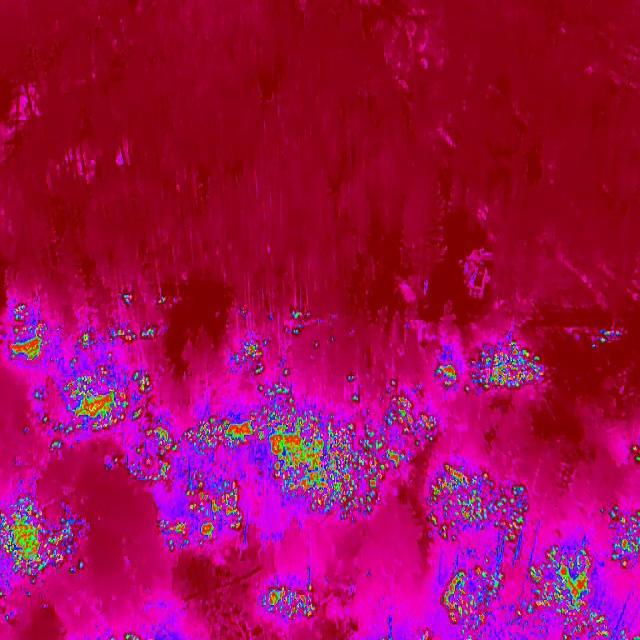fire: (150, 378, 442, 558), (32, 361, 160, 452), (524, 540, 638, 638), (429, 457, 539, 548), (0, 493, 84, 592), (225, 304, 314, 378), (464, 336, 560, 398), (437, 562, 515, 632), (68, 324, 164, 354), (6, 302, 49, 367), (260, 580, 318, 624), (608, 504, 640, 574), (586, 323, 627, 352), (434, 358, 462, 393), (120, 289, 138, 309), (625, 440, 640, 464), (154, 292, 173, 308)
